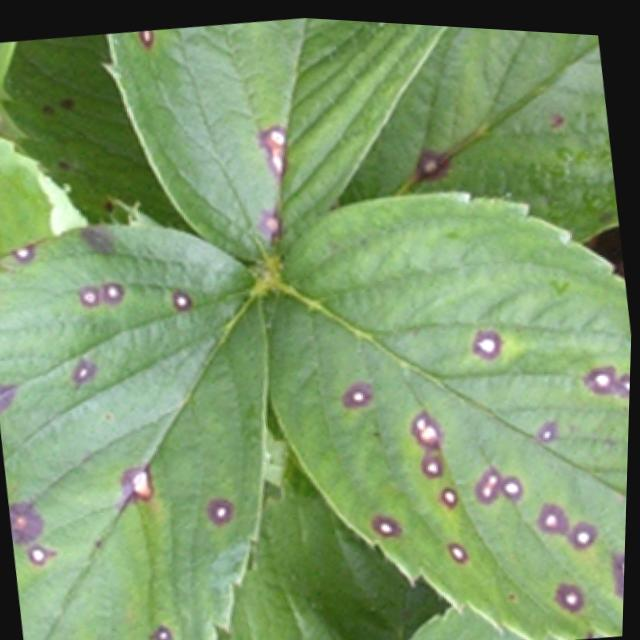Leaf Spot: (264, 186, 633, 637), (0, 202, 270, 640), (100, 14, 451, 263), (336, 21, 620, 236), (0, 32, 200, 233)
